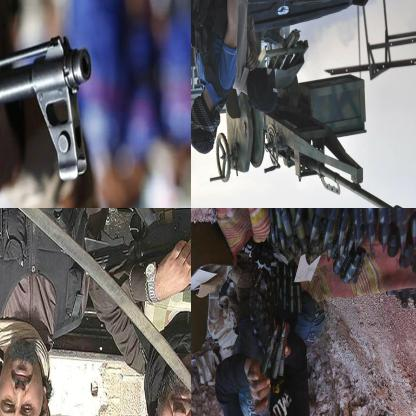knife: (0, 208, 190, 410)
rifle: (0, 32, 94, 207), (79, 208, 190, 280)
